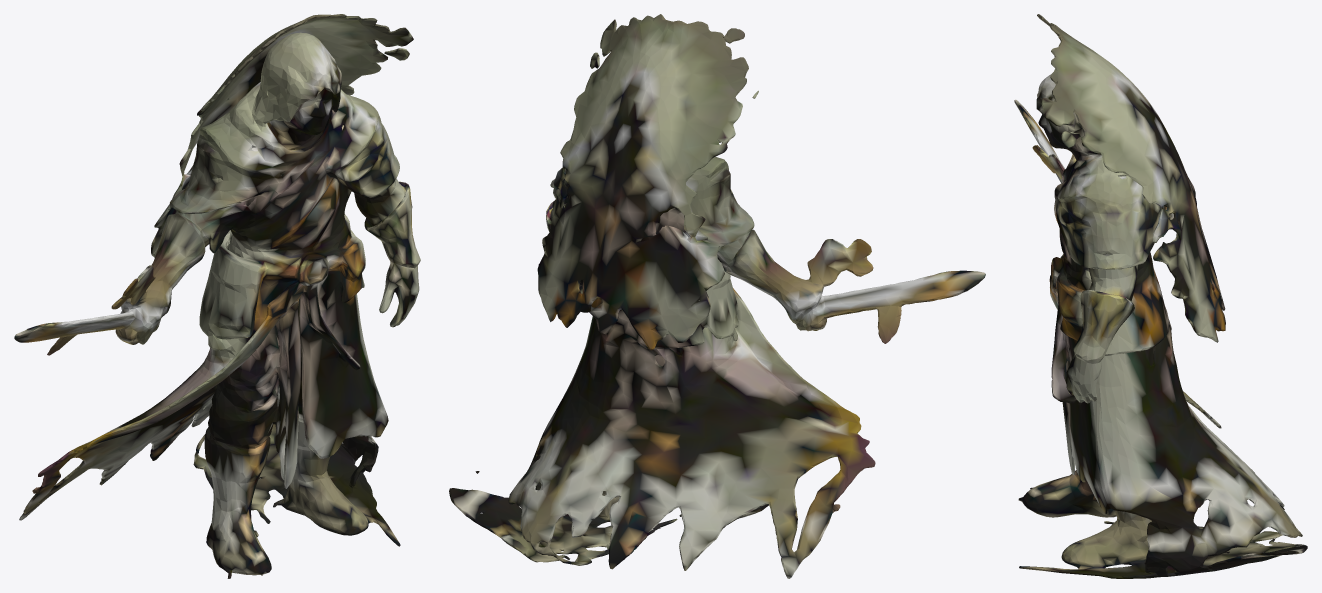
File: stoneDokkaebi.glb
The picture shows the model from 3 angles, left to right: view 1: azimuth 30°, elevation 25°; view 2: azimuth 150°, elevation 25°; view 3: azimuth 270°, elevation 25°; orthographic projection. The views are drawn at different scales.
Parts seen in each view (by area): view 1: world; view 2: world; view 3: world.
Part boxes in pixels (box(x1,y1,x2,y2)): world: box(14, 14, 420, 578); world: box(449, 14, 985, 578); world: box(1014, 14, 1307, 578).
Bounding box in the file's own units: 0.9083 × 1 × 0.5247.
